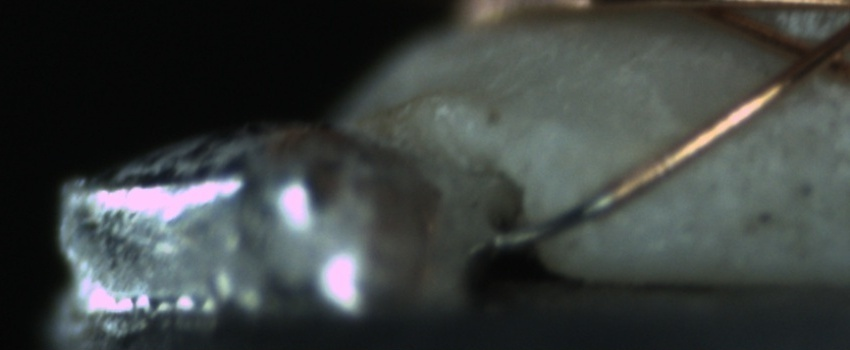CL: (779, 29, 843, 84)
TS: (493, 187, 613, 250)
TTCW: (492, 169, 650, 248)
